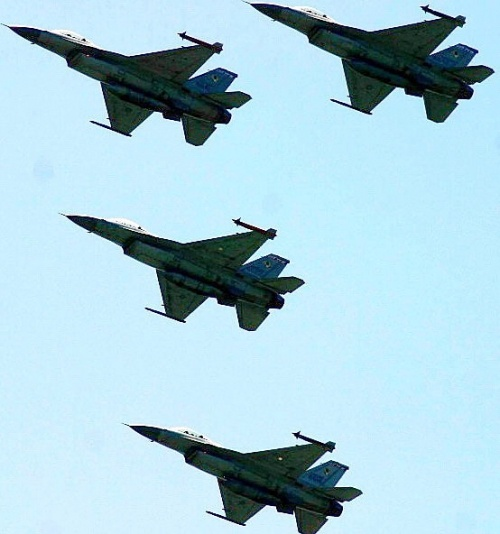airplane: (2, 19, 261, 153), (57, 207, 308, 336), (245, 1, 500, 125), (118, 412, 368, 533)
